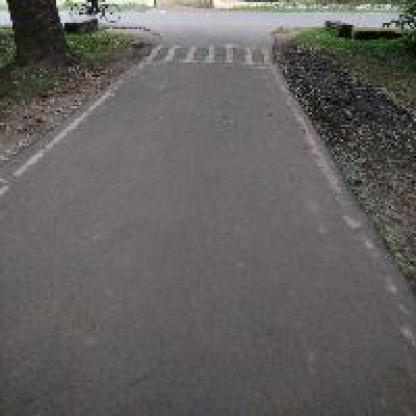Speed Bump: (140, 37, 274, 71)
